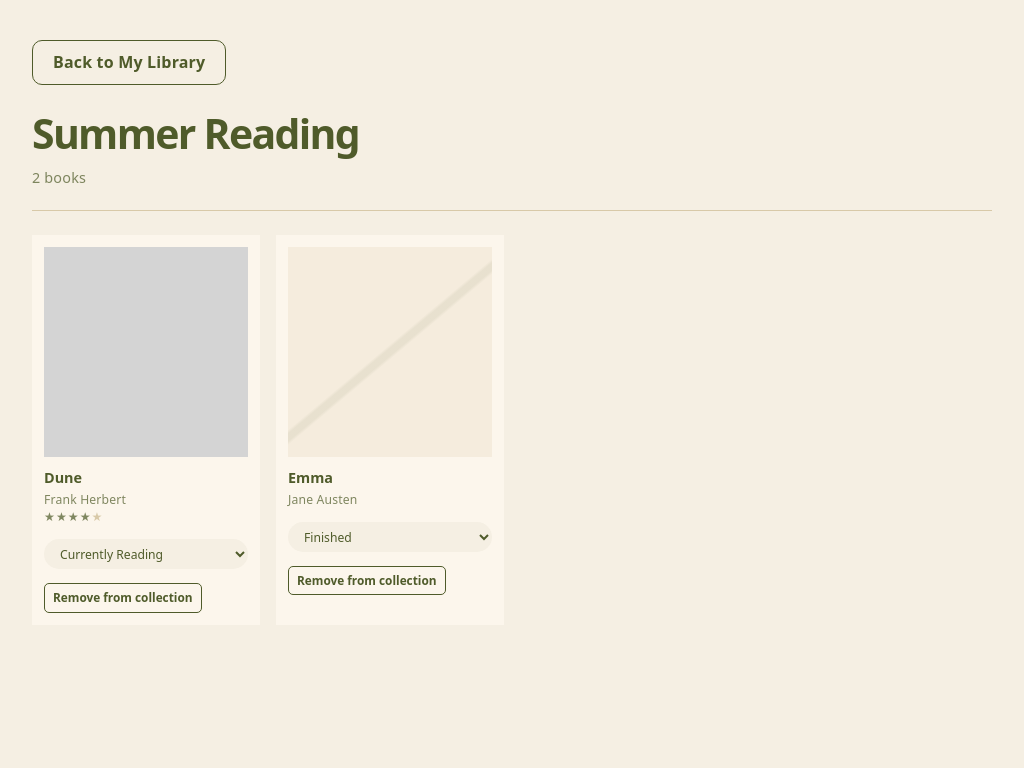
Test: CollectionDetailsPage › removes only membership and updates the count after success
Expected: the button "Dune" is shown, [44,468,82,487]
Click the button with aria-label "Remove Dune from collection" at x=123, y=598, box [44,583,202,612]
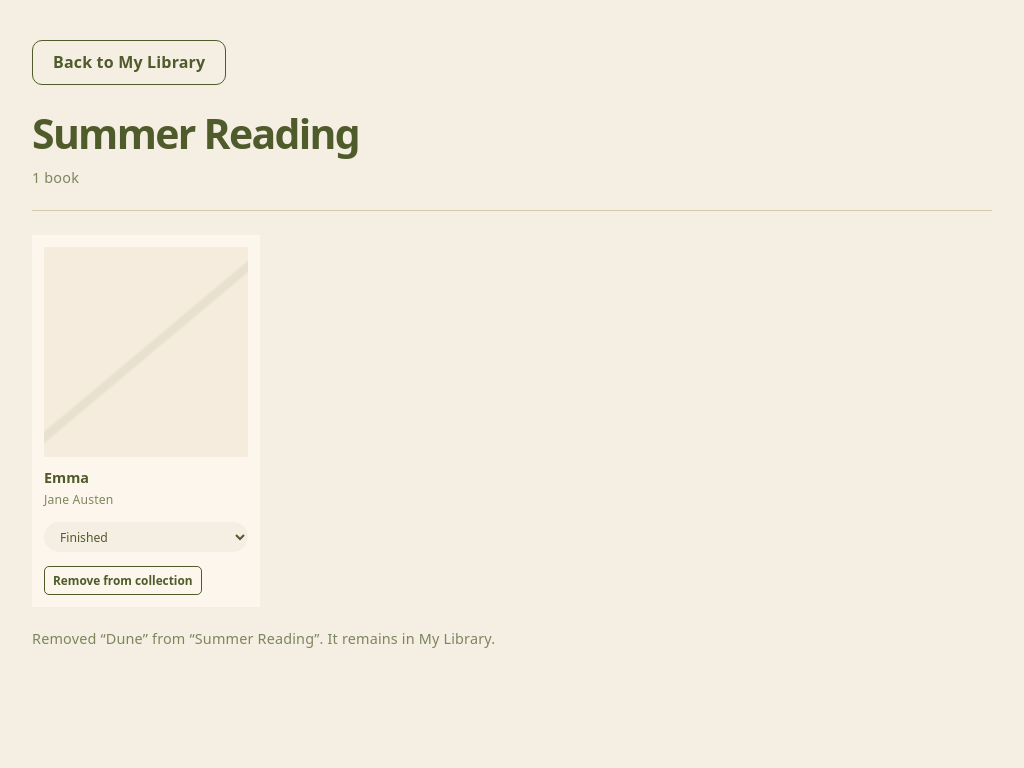
Expected: the button "Emma" is shown, [44,468,89,487]
Result: the text "1 book" is shown at [32,168,79,187]
Result: the message shows "It remains in My Library" at [32,630,495,648]
